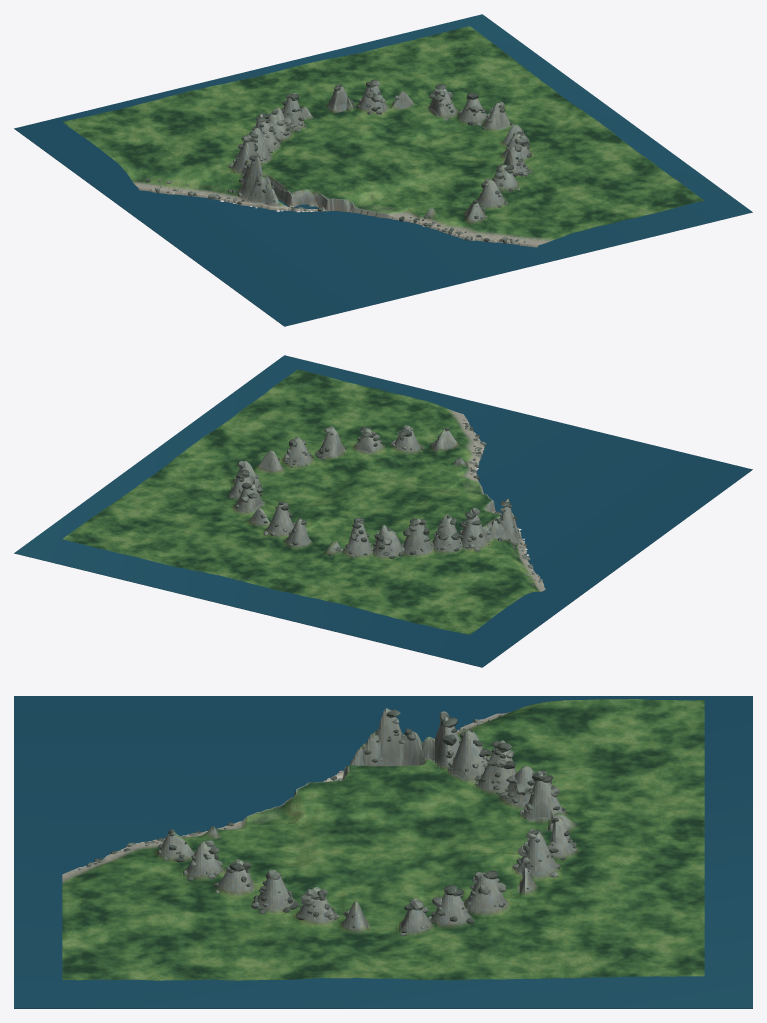
The model's file is Terrain_P1.fbx.
3 renders of one model, top to bottom at view 1: azimuth 30°, elevation 25°; view 2: azimuth 150°, elevation 25°; view 3: azimuth 270°, elevation 25°, orthographic. The views are drawn at different scales.
Parts seen in each view (by area): view 1: Ground, Sea; view 2: Ground, Sea; view 3: Ground, Sea.
Part boxes in pixels (box(x1,y1,x2,y2)): Ground: box(62, 26, 704, 247); Sea: box(14, 14, 752, 326); Ground: box(62, 369, 545, 634); Sea: box(14, 355, 752, 667); Ground: box(62, 699, 704, 980); Sea: box(14, 696, 752, 1008).
Bounding box in the file's own units: 73600 × 9000 × 73600.
